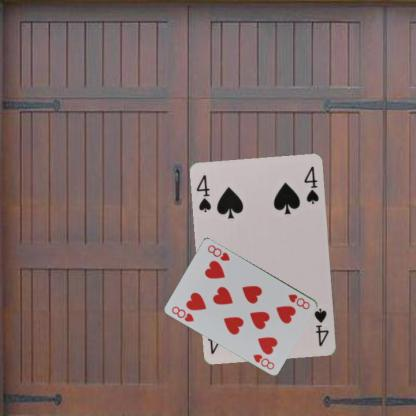4s: (194, 172, 213, 214), (312, 306, 330, 348)
8h: (170, 303, 196, 323), (286, 291, 311, 310)
